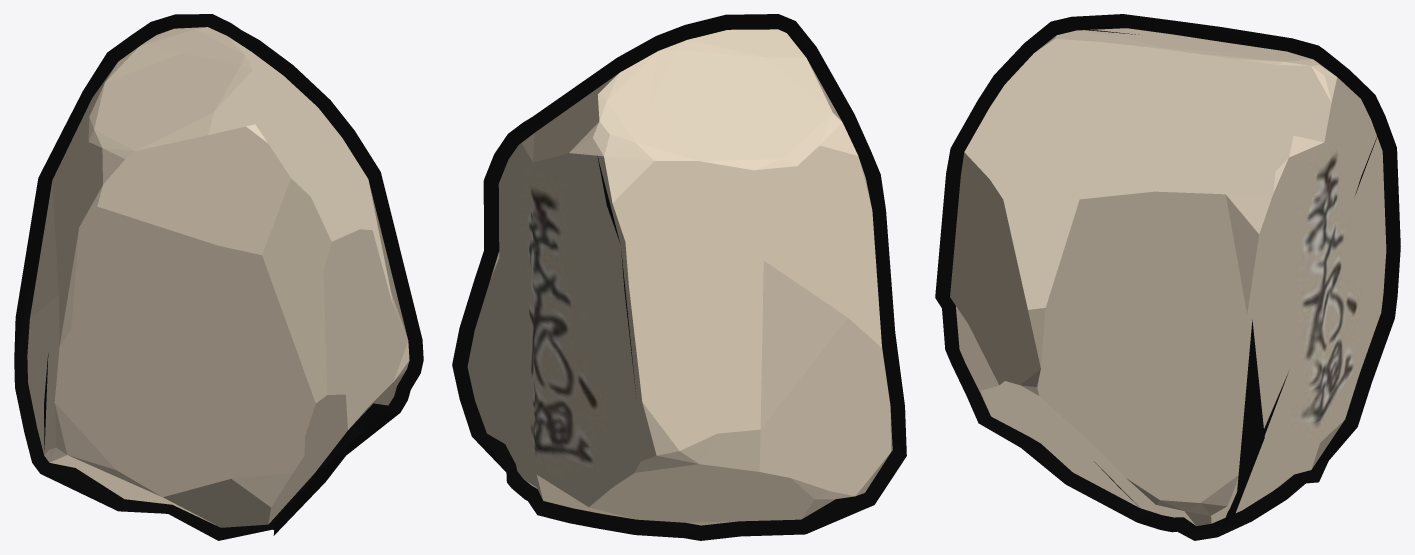
Rendered from env_small_rock_stone.glb.
3 views of the same model, side by side, from view 1: azimuth 30°, elevation 25°; view 2: azimuth 150°, elevation 25°; view 3: azimuth 270°, elevation 25° (orthographic). The views are drawn at different scales.
Visible parts, largest first — view 1: Stone; view 2: Stone; view 3: Stone.
Part boxes in pixels (x1=…): Stone: x1=14, y1=14, x2=423, y2=540; Stone: x1=452, y1=14, x2=906, y2=540; Stone: x1=935, y1=14, x2=1400, y2=540.
Size of the model in its own units: 0.5447 by 0.655 by 0.5763.
Materials: 2 (1 with a texture image).
